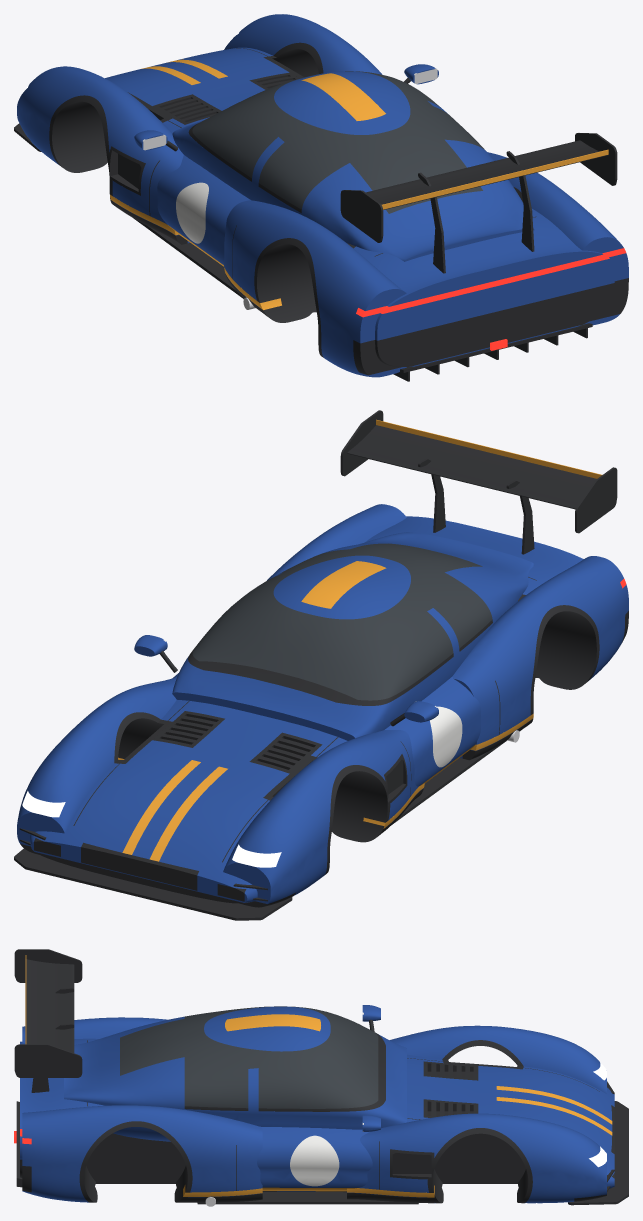
The model's file is body.glb.
3 views of the same model, one above another, from view 1: azimuth 30°, elevation 25°; view 2: azimuth 150°, elevation 25°; view 3: azimuth 270°, elevation 25° (orthographic). The views are drawn at different scales.
Visible parts, largest first — view 1: Livery, Carbon, Glass, Accent, Light, LiveryWhite, Metal; view 2: Livery, Carbon, Glass, Accent, LiveryWhite, Headlight; view 3: Livery, Carbon, Glass, Accent, LiveryWhite.
Part boxes in pixels (box(x1,y1,x2,y2)): Livery: box(17, 14, 628, 377); Carbon: box(14, 42, 628, 381); Glass: box(192, 71, 485, 213); Accent: box(110, 59, 608, 310); Light: box(356, 248, 626, 350); LiveryWhite: box(176, 182, 208, 243); Metal: box(143, 68, 437, 309); Livery: box(17, 504, 628, 904); Carbon: box(14, 410, 628, 920); Glass: box(192, 543, 492, 700); Accent: box(118, 419, 601, 861); LiveryWhite: box(430, 706, 462, 767); Headlight: box(22, 791, 281, 867); Livery: box(20, 1005, 614, 1203); Carbon: box(14, 949, 628, 1205); Glass: box(120, 1006, 378, 1108); Accent: box(25, 955, 612, 1197); LiveryWhite: box(290, 1135, 339, 1186).
Bounding box in the file's own units: 2.2 × 1.33 × 4.74.
